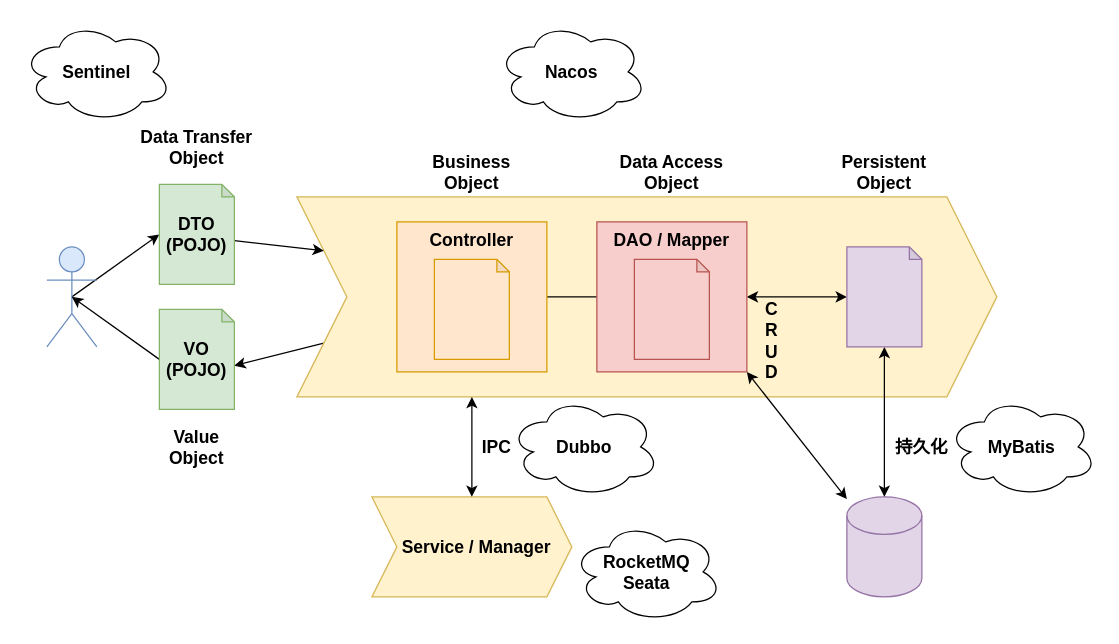
Image size: 1119x644. Some labels were removed from this diagram. The centre of each missing label's shape, as x and y in pixels:
"App" belongs at (x=71, y=296).
"BO (POJO)" belongs at (x=471, y=308).
"DB" belongs at (x=884, y=546).
"DO (POJO)" belongs at (x=671, y=308).
"PO (POJO)" belongs at (x=884, y=296).
